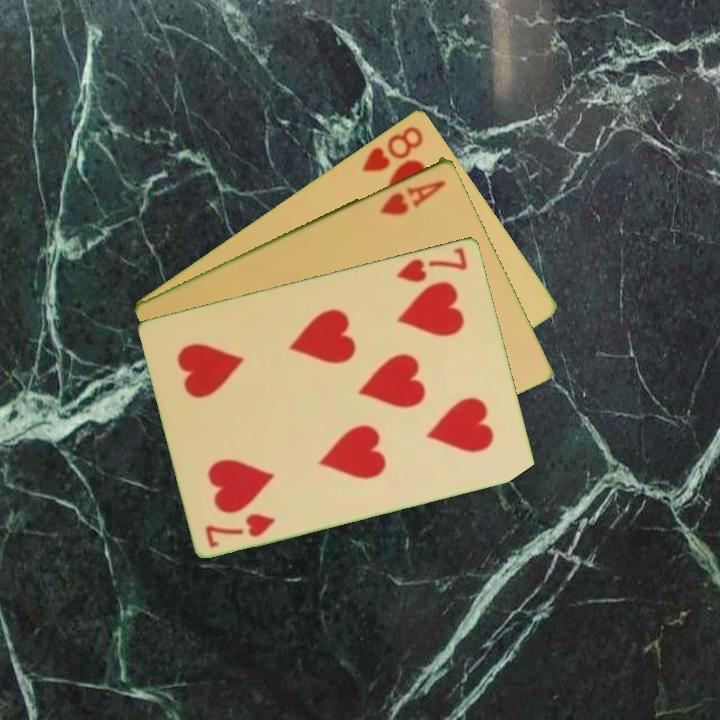7h: (393, 243, 471, 285), (202, 509, 279, 550)
8h: (358, 121, 427, 175)
Ah: (376, 176, 449, 218)
